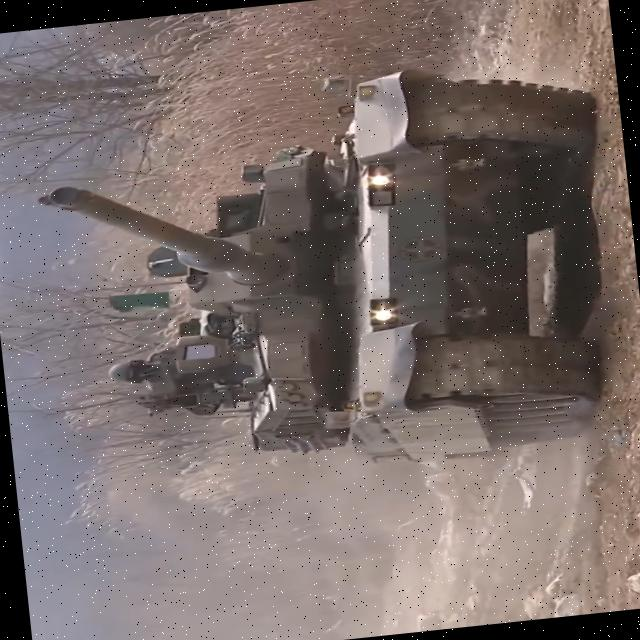korea tank: (26, 46, 632, 500)
